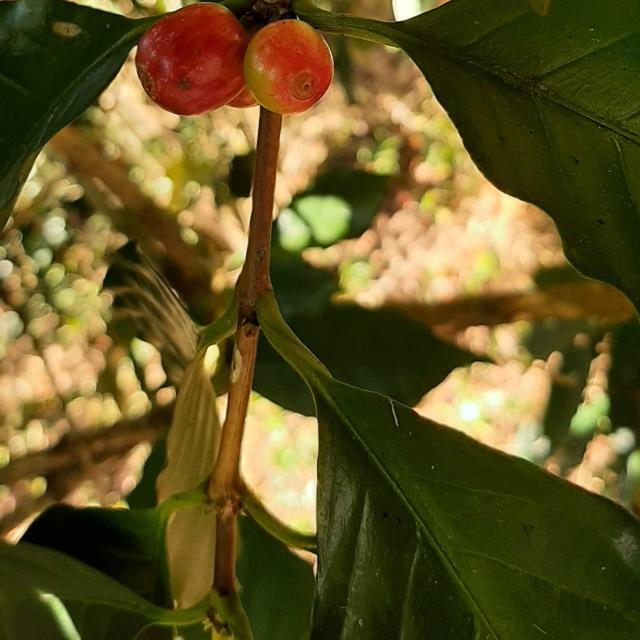red: (135, 2, 249, 115)
yellow: (244, 18, 334, 114)
